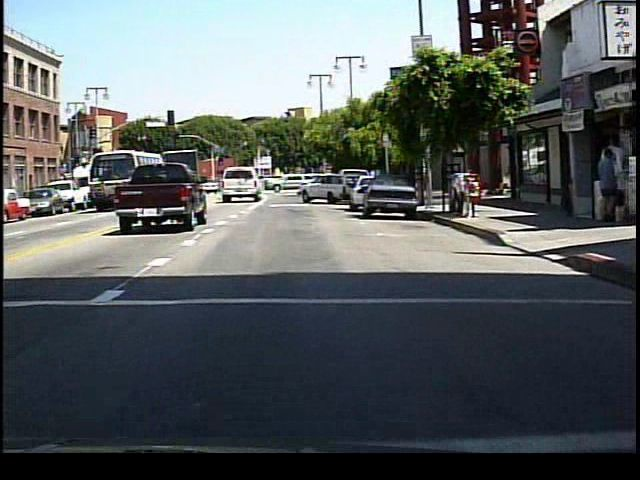person: (592, 146, 618, 225)
